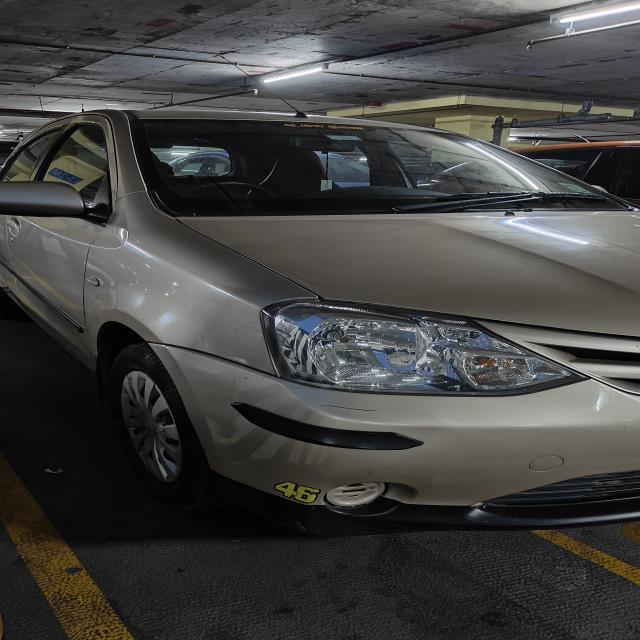scratch: (308, 398, 415, 419)
